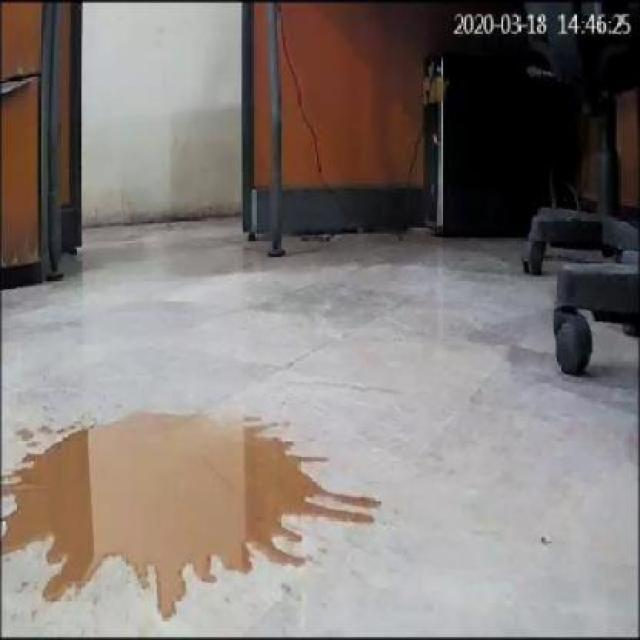spillage: (4, 409, 379, 620)
